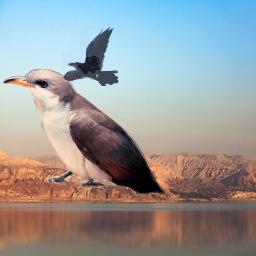Crow: (62, 26, 119, 86)
Cuckoo: (3, 69, 165, 195)
